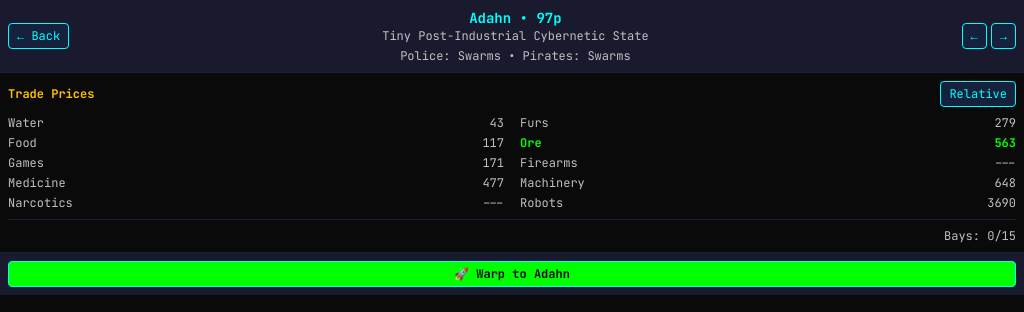
Test: DestinationScreen › Trade Price Display › should toggle between absolute and relative prices
The image size is (1024, 312).
// Click to toggle
Click the button with test id "toggle-prices-button" at point(978, 94), box 940,81 -> 1016,107
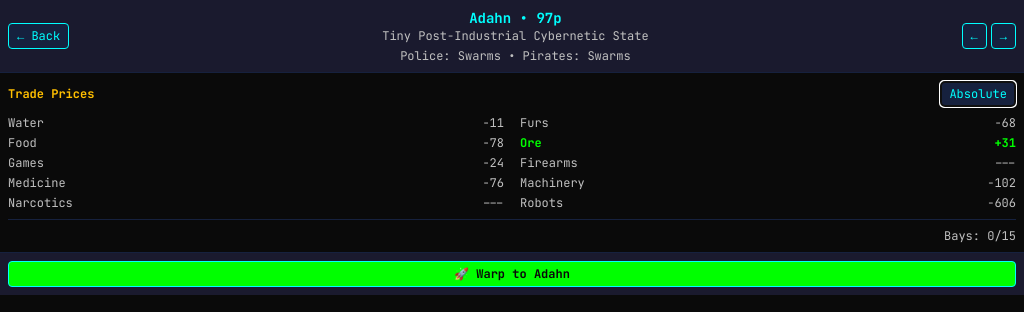
Result: the button with test id "toggle-prices-button" reads "Absolute"
// Click again to toggle back
Click the button with test id "toggle-prices-button" at point(978, 94), box 940,81 -> 1016,107
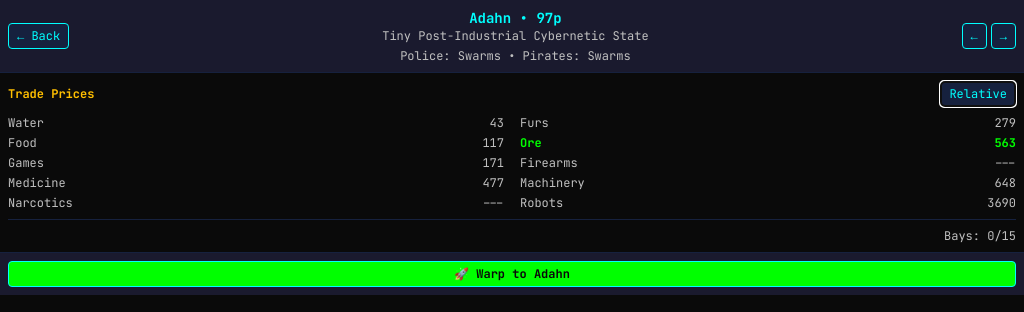
Result: the button with test id "toggle-prices-button" reads "Relative" at 940,81 -> 1016,107
